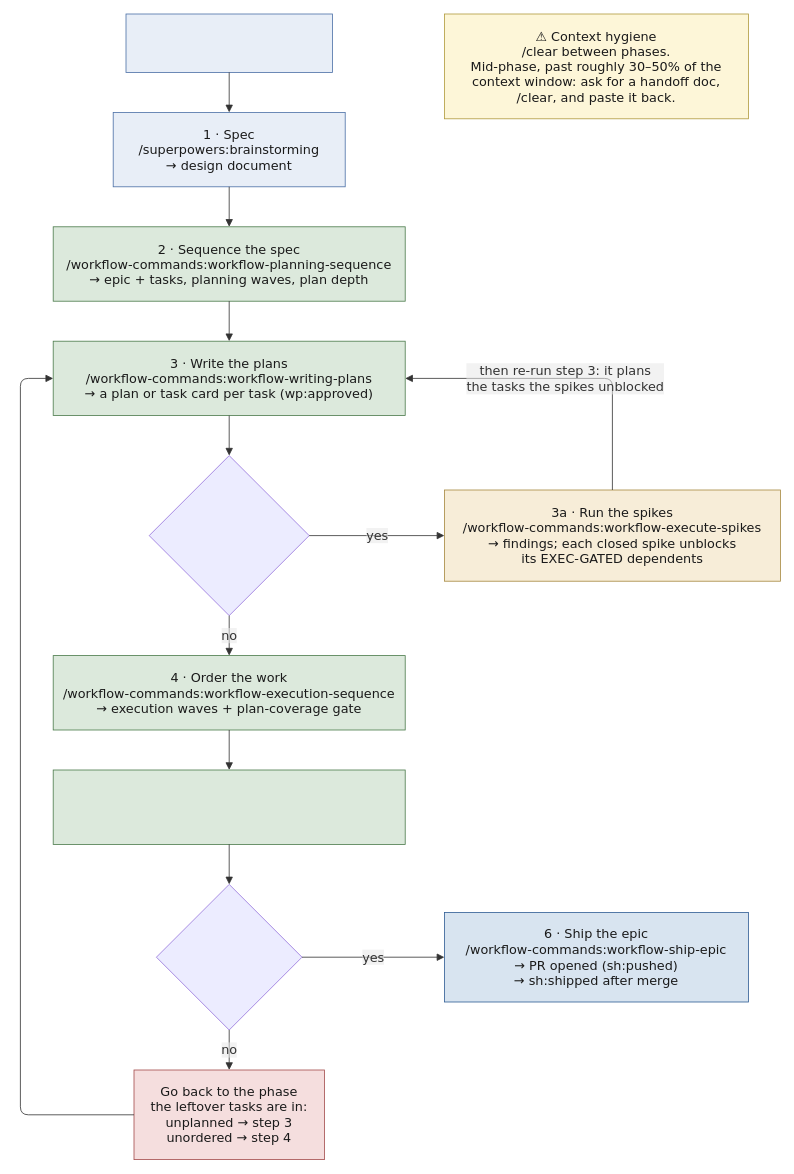
Image size: 794x1174. Some labels were removed from this diagram. The centre of each missing label's shape, as x and y in pixels:
"0 · Set up Create a worktree + branch" goes at (x=228, y=42).
"5 · Build it /workflow-commands:workflow-execute-plans → ex:done per task" goes at (x=228, y=806).
"Any SPIKE-FIRST tasks left to run?" goes at (x=228, y=535).
"Every task in the epic done?" goes at (x=229, y=957).
